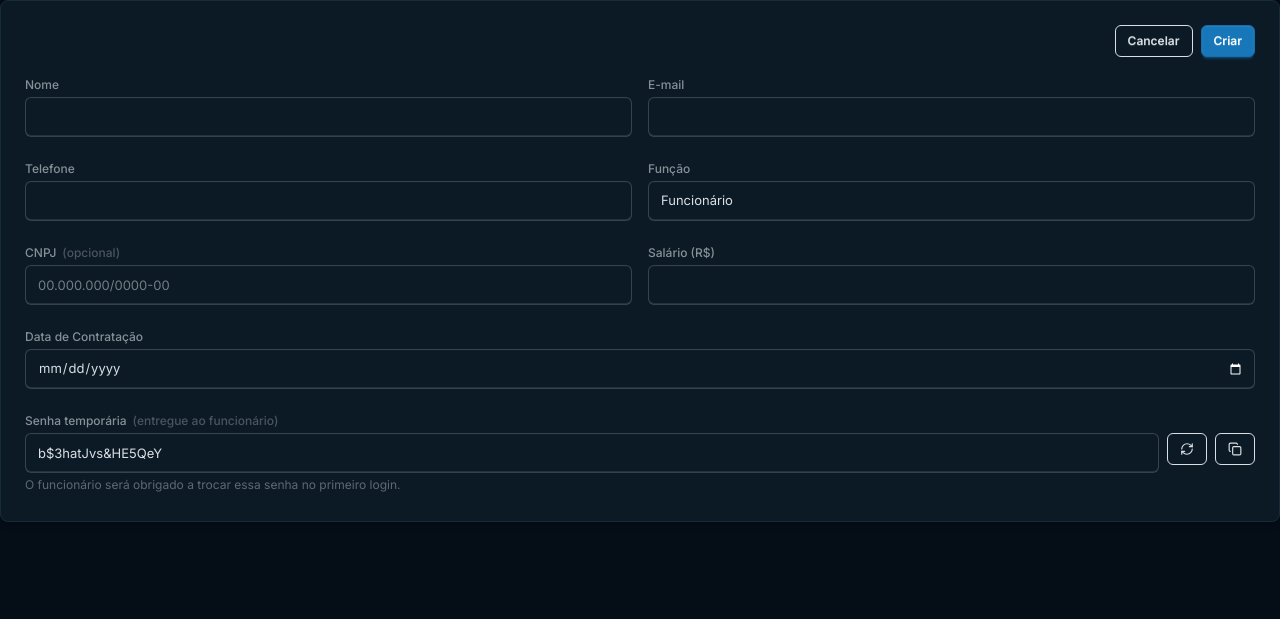
Test: shows validation errors when submitting empty required fields
Click the button "Criar" at (1228, 41), box x1=1200 y1=25 x2=1255 y2=57
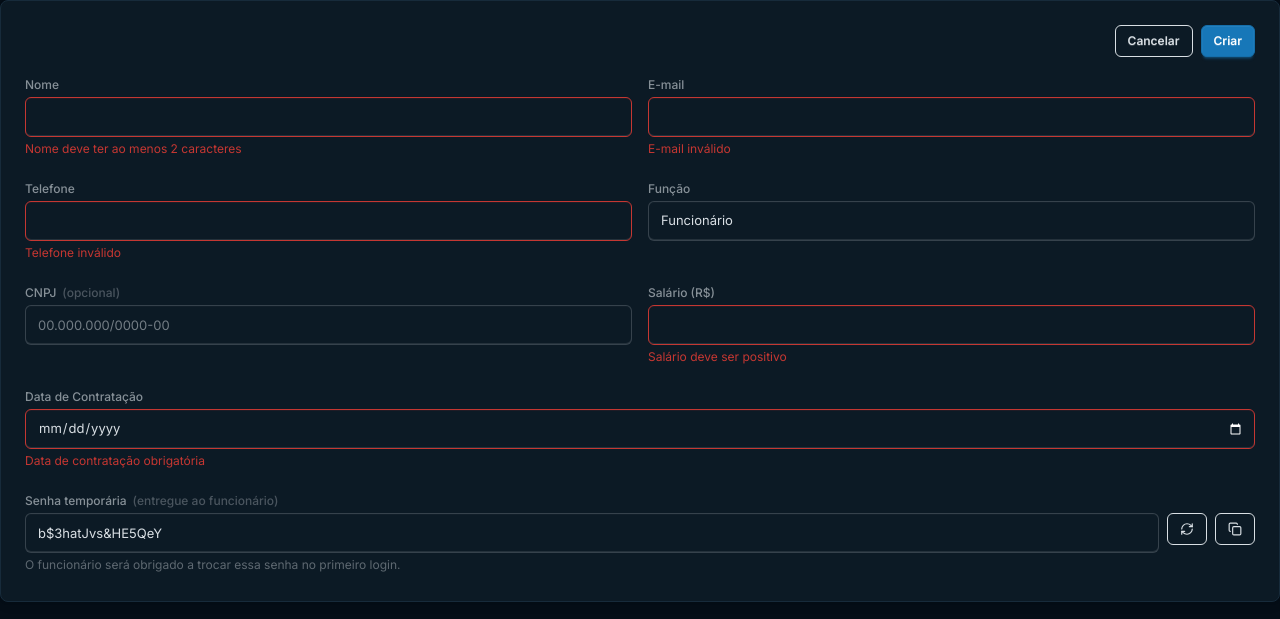
Check: the text "Nome deve ter ao menos 2 caracteres" is shown, box x1=25 y1=141 x2=242 y2=156
Check: the text "Salário deve ser positivo" is shown, box x1=648 y1=349 x2=787 y2=364
